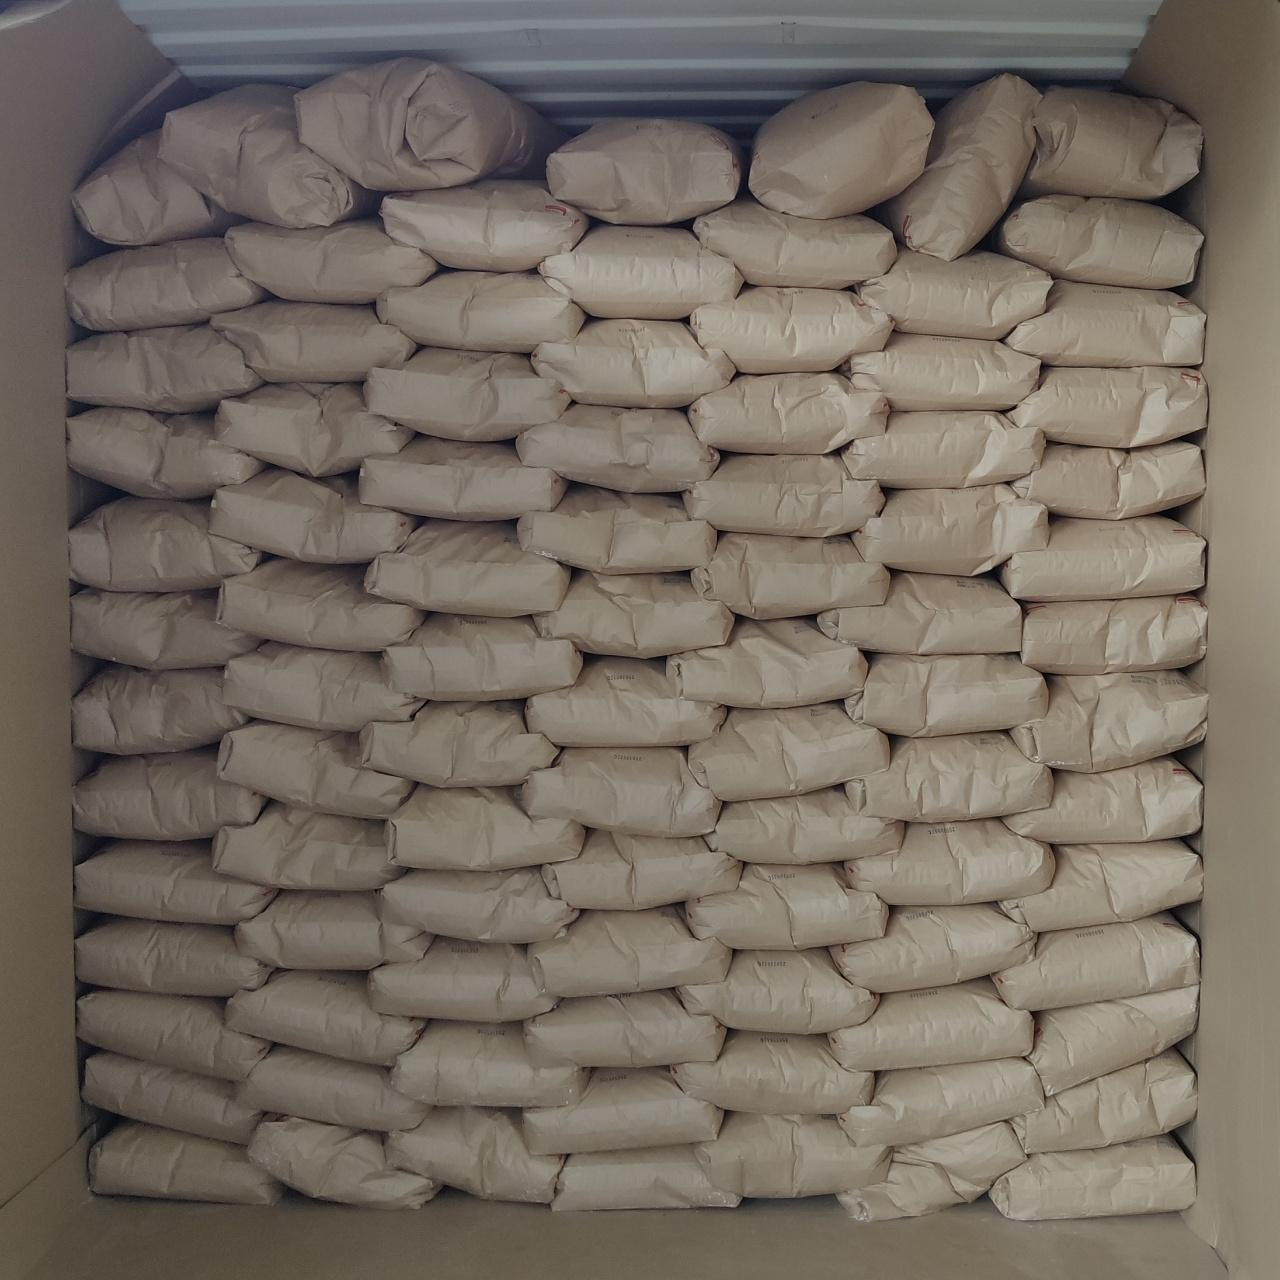sack: (295, 57, 544, 191), (158, 86, 374, 227), (881, 76, 1040, 260), (749, 82, 933, 219), (1017, 87, 1202, 200), (547, 119, 743, 224), (992, 914, 1199, 1011), (1010, 671, 1207, 772), (208, 468, 416, 563), (366, 520, 569, 617), (688, 703, 889, 800), (1010, 1050, 1197, 1154), (72, 131, 241, 246), (992, 197, 1202, 289), (217, 558, 424, 651), (66, 237, 270, 331), (381, 180, 589, 272), (540, 225, 743, 319), (364, 347, 569, 440), (1026, 986, 1198, 1096), (692, 197, 897, 289), (828, 978, 1033, 1070), (225, 972, 424, 1066), (838, 1122, 1026, 1221), (845, 733, 1053, 822), (217, 723, 412, 817), (1001, 841, 1202, 932), (529, 907, 731, 997), (215, 384, 412, 476), (852, 484, 1049, 576), (224, 217, 437, 302), (71, 496, 259, 592), (830, 904, 1035, 992), (223, 642, 424, 731), (526, 657, 727, 746), (531, 319, 734, 407), (73, 746, 265, 839), (844, 819, 1054, 904), (521, 748, 721, 837), (667, 618, 867, 707), (689, 286, 893, 373), (67, 407, 262, 498), (517, 404, 718, 492), (78, 989, 271, 1080), (67, 323, 262, 413), (1001, 515, 1205, 601), (1003, 756, 1202, 844), (247, 1117, 437, 1209), (359, 436, 566, 520), (842, 1059, 1044, 1145), (859, 249, 1052, 339), (534, 570, 733, 657), (1004, 279, 1205, 365), (518, 486, 716, 573), (382, 614, 582, 700), (524, 1068, 724, 1154), (687, 864, 888, 949), (360, 701, 558, 787), (212, 801, 403, 890), (378, 271, 585, 353), (679, 949, 878, 1034), (385, 1107, 563, 1202), (75, 841, 276, 925), (386, 785, 584, 870), (390, 1021, 588, 1106), (990, 1136, 1195, 1218), (83, 1051, 263, 1144), (819, 572, 1020, 655), (695, 1112, 891, 1197), (672, 1032, 874, 1114), (212, 300, 416, 381), (683, 455, 883, 537), (691, 536, 887, 619), (1009, 366, 1207, 448), (846, 655, 1046, 736), (689, 372, 888, 453), (369, 936, 555, 1022), (236, 1046, 431, 1128), (74, 664, 248, 755), (524, 989, 725, 1067), (89, 1123, 282, 1204), (842, 411, 1045, 488), (704, 787, 903, 865), (545, 830, 739, 910), (75, 918, 273, 996), (235, 891, 428, 970), (378, 867, 578, 942), (848, 332, 1040, 410), (71, 590, 260, 669), (1012, 443, 1203, 520), (1022, 596, 1207, 675), (550, 1146, 741, 1210)
